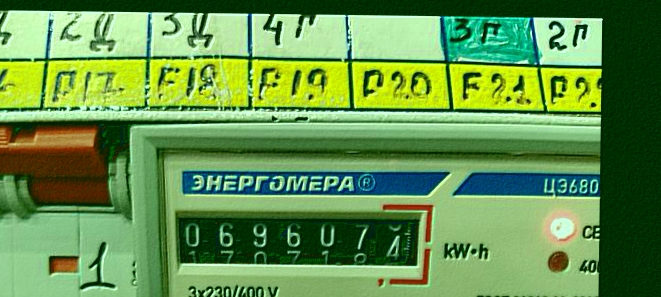0: (182, 221, 203, 249), (319, 219, 337, 249), (218, 221, 235, 247)
4: (385, 233, 402, 262)
6: (284, 219, 302, 249)
7: (352, 221, 370, 250)
9: (251, 221, 269, 249)
screen: (160, 197, 436, 285)
